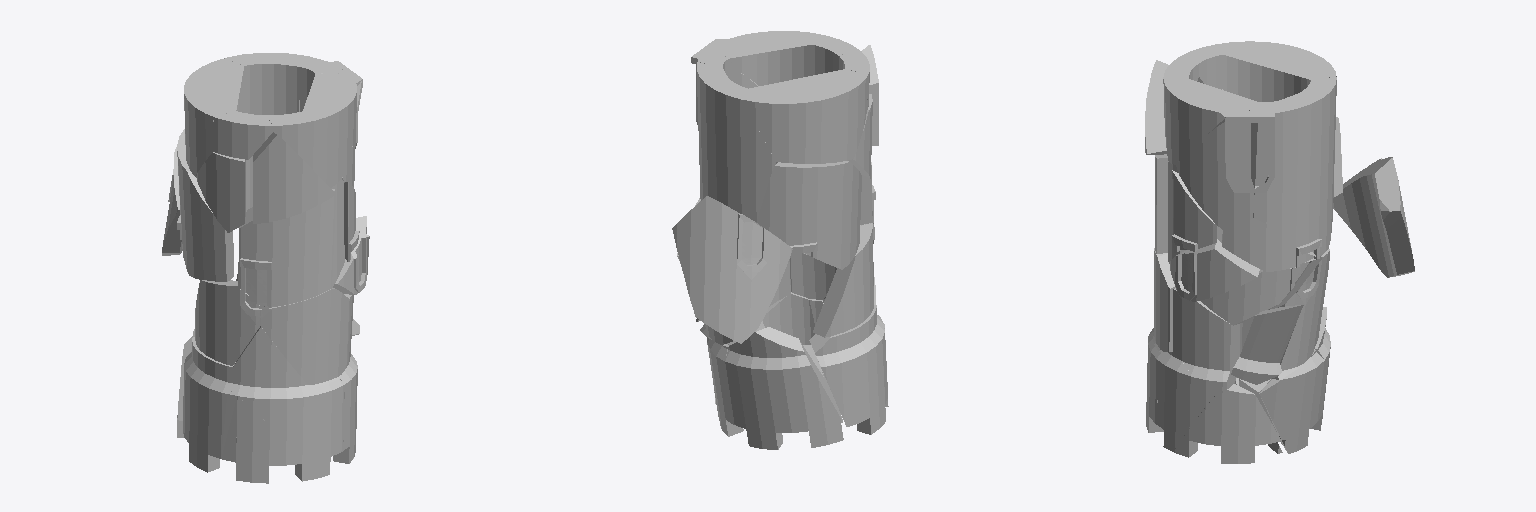
Rendered from destruction_tower_000026.obj.
The picture shows the model from 3 angles: view 1: azimuth 30°, elevation 25°; view 2: azimuth 150°, elevation 25°; view 3: azimuth 270°, elevation 25°; orthographic projection.
Visible parts, largest first — view 1: tower.001_cell.024_Mesh.024, tower.001_cell.021_Mesh.021, tower.001_cell.028_Mesh.028, tower.001_cell.006_Mesh.006, tower.001_cell.011_Mesh.011, tower.001_cell.002_Mesh.002, tower.001_cell.013_Mesh.013, tower.001_cell.003_Mesh.003, tower.001_cell.009_Mesh.009, tower.001_cell.017_Mesh.017, tower.001_cell.015_Mesh.015, tower.001_cell.014_Mesh.014 (+9 smaller); view 2: tower.001_cell.025_Mesh.025, tower.001_cell.007_Mesh.007, tower.001_cell.015_Mesh.015, tower.001_cell.003_Mesh.003, tower.001_cell.017_Mesh.017, tower.001_cell.028_Mesh.028, tower.001_cell.005_Mesh.005, tower.001_cell.009_Mesh.009, tower.001_cell.023_Mesh.023, tower.001_cell.021_Mesh.021, tower.001_cell.029_Mesh.029, tower.001_cell.006_Mesh.006 (+5 smaller); view 3: tower.001_cell.017_Mesh.017, tower.001_cell.020_Mesh.020, tower.001_cell.025_Mesh.025, tower.001_cell.015_Mesh.015, tower.001_cell.028_Mesh.028, tower.001_cell.030_Mesh.030, tower.001_cell_Mesh, tower.001_cell.029_Mesh.029, tower.001_cell.010_Mesh.010, tower.001_cell.023_Mesh.023, tower.001_cell.016_Mesh.016, tower.001_cell.026_Mesh.026 (+11 smaller).
Part boxes in pixels (x1,y1,x2,y2): tower.001_cell.024_Mesh.024: (238,189,335,308); tower.001_cell.021_Mesh.021: (261,288,349,387); tower.001_cell.028_Mesh.028: (266,73,362,187); tower.001_cell.006_Mesh.006: (188,392,277,483); tower.001_cell.011_Mesh.011: (277,379,344,481); tower.001_cell.002_Mesh.002: (253,132,334,223); tower.001_cell.013_Mesh.013: (232,326,309,432); tower.001_cell.003_Mesh.003: (177,129,233,281); tower.001_cell.009_Mesh.009: (195,280,260,365); tower.001_cell.017_Mesh.017: (224,53,323,211); tower.001_cell.015_Mesh.015: (184,59,243,176); tower.001_cell.014_Mesh.014: (196,152,245,232); tower.001_cell.025_Mesh.025: (672,196,792,343); tower.001_cell.007_Mesh.007: (725,327,843,449); tower.001_cell.015_Mesh.015: (743,69,867,163); tower.001_cell.003_Mesh.003: (756,161,861,269); tower.001_cell.017_Mesh.017: (697,62,777,221); tower.001_cell.028_Mesh.028: (715,31,855,86); tower.001_cell.005_Mesh.005: (809,305,884,426); tower.001_cell.009_Mesh.009: (813,223,874,337); tower.001_cell.023_Mesh.023: (763,292,821,369); tower.001_cell.021_Mesh.021: (790,248,836,299); tower.001_cell.029_Mesh.029: (707,337,740,436); tower.001_cell.006_Mesh.006: (857,324,888,434); tower.001_cell.017_Mesh.017: (1282,77,1336,258); tower.001_cell.020_Mesh.020: (1176,111,1257,229); tower.001_cell.025_Mesh.025: (1333,157,1414,277); tower.001_cell.015_Mesh.015: (1222,41,1336,101); tower.001_cell.028_Mesh.028: (1163,61,1258,164); tower.001_cell.030_Mesh.030: (1174,384,1281,463); tower.001_cell_Mesh: (1173,288,1239,390); tower.001_cell.029_Mesh.029: (1259,350,1324,453); tower.001_cell.010_Mesh.010: (1169,239,1259,301); tower.001_cell.023_Mesh.023: (1157,351,1218,451); tower.001_cell.016_Mesh.016: (1231,305,1303,384); tower.001_cell.026_Mesh.026: (1250,100,1281,230).
Size of the model in its own units: 48.7 by 96.67 by 66.69.